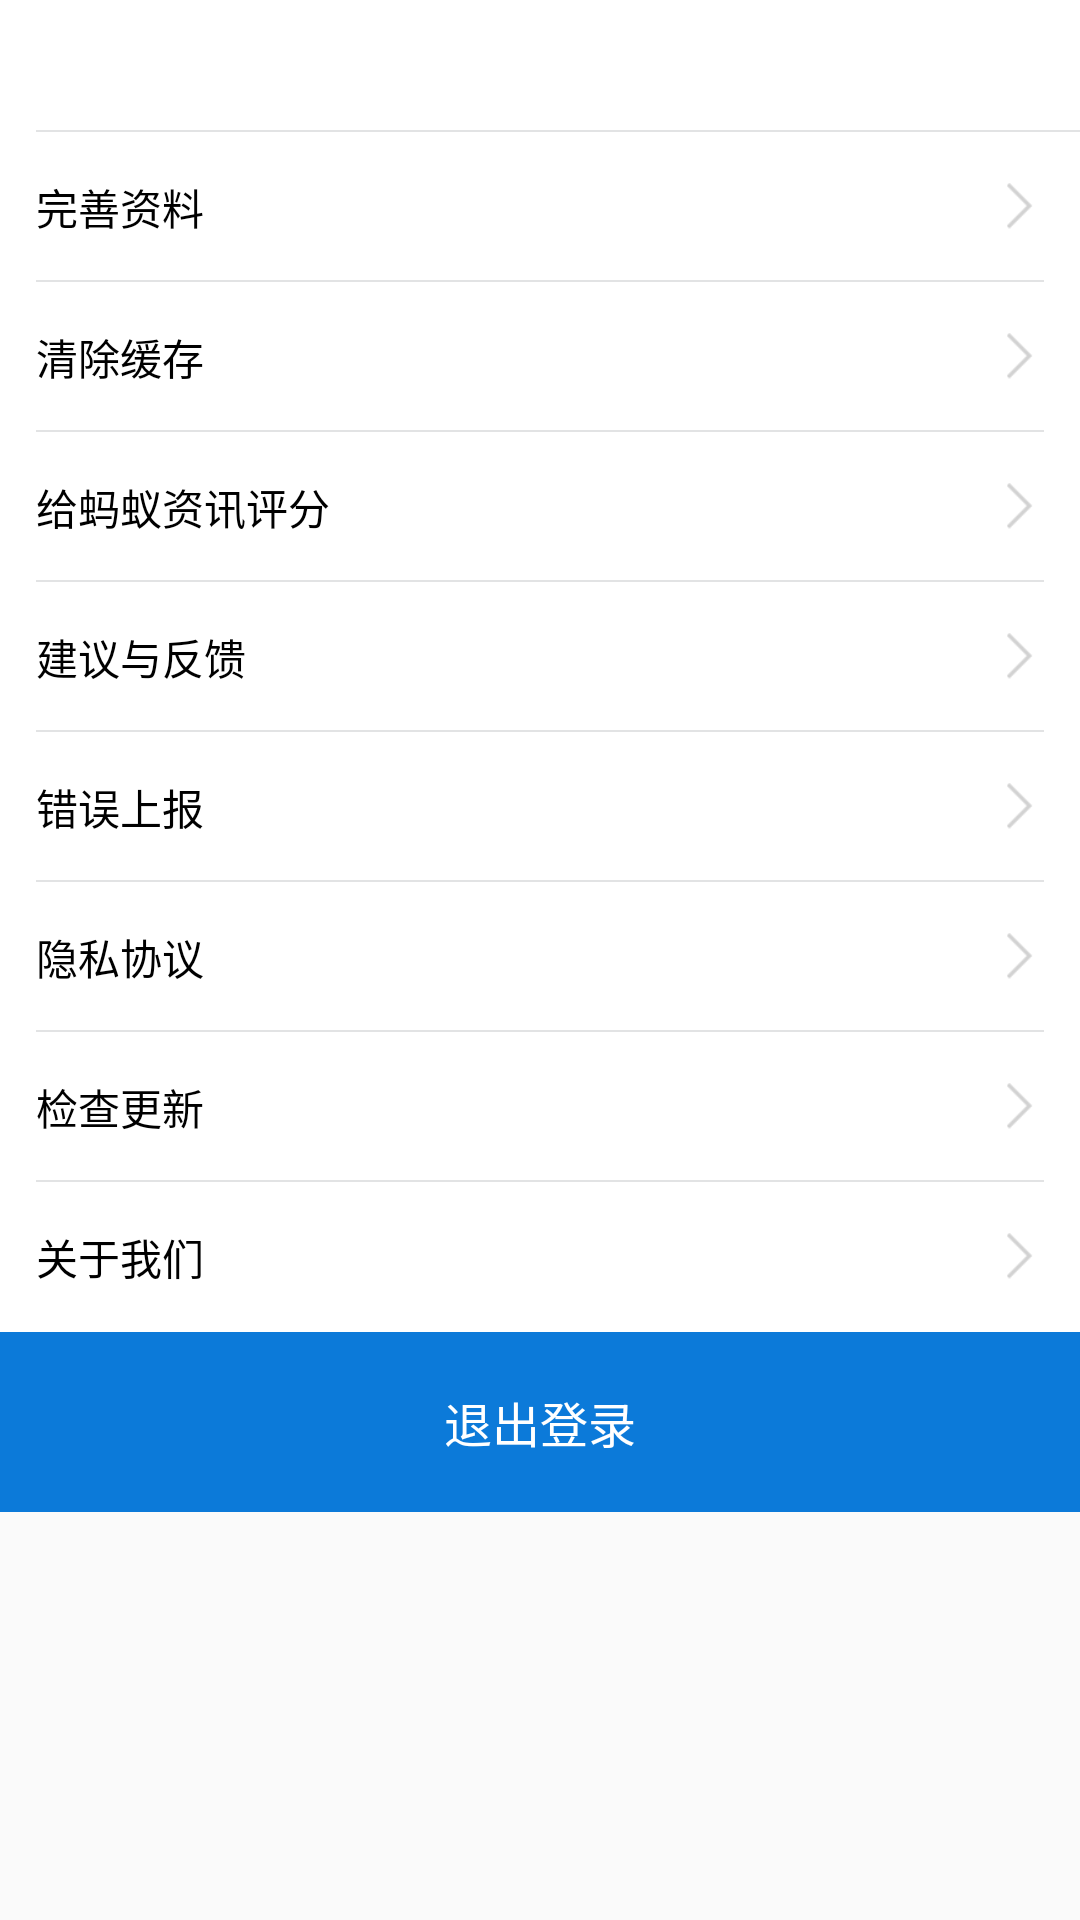

Locate icon controls on the screen. Image size 1080×1920, boxes as detection(x1, y1, x2, y2).
arrow right: detection(1007, 184, 1032, 228), detection(1007, 334, 1032, 378), detection(1007, 484, 1032, 528), detection(1007, 634, 1032, 678), detection(1007, 784, 1032, 828), detection(1007, 934, 1032, 978), detection(1007, 1084, 1032, 1128), detection(1007, 1234, 1032, 1278)
